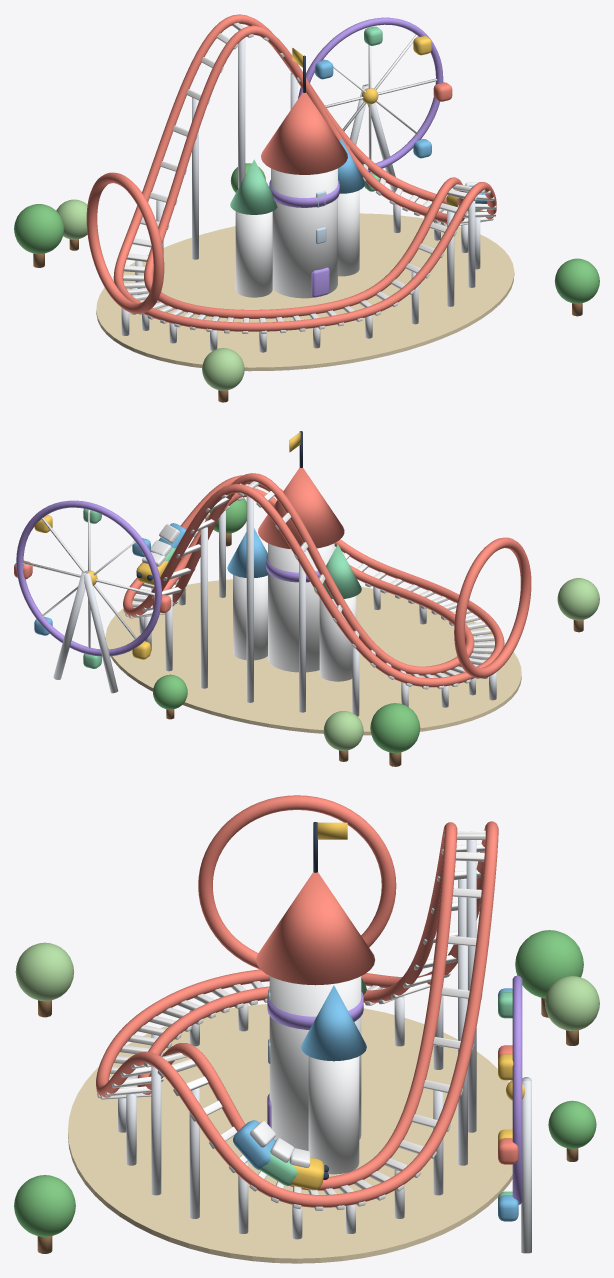
Rendered from gijang.glb.
3 renders of one model, top to bottom at view 1: azimuth 30°, elevation 25°; view 2: azimuth 150°, elevation 25°; view 3: azimuth 270°, elevation 25°, orthographic. The views are drawn at different scales.
Parts seen in each view (by area): view 1: Path, RailR, RailL, Tower, TowerRoof, Loop, Side-0.13, WheelRim, Leaf-0.6, Side0.17, Leaf0.62, SideRoof-0.13 (+9 smaller); view 2: Path, RailR, RailL, Tower, Loop, WheelRim, TowerRoof, Side0.17, Side-0.13, Leaf-0.6, Pole45, Leaf-0.001 (+13 smaller); view 3: Path, RailR, RailL, TowerRoof, Tower, Loop, Side0.17, Leaf-0.6, Leaf0.62, SideRoof0.17, Leaf-0.001, Leaf-0.45 (+14 smaller).
Part boxes in pixels (x1=…): Path: x1=96, y1=213, x2=514, y2=371; RailR: x1=113, y1=14, x2=496, y2=331; RailL: x1=144, y1=25, x2=465, y2=318; Tower: x1=271, y1=168, x2=337, y2=298; TowerRoof: x1=261, y1=92, x2=347, y2=174; Loop: x1=86, y1=172, x2=164, y2=313; Side-0.13: x1=235, y1=211, x2=272, y2=297; WheelRim: x1=298, y1=17, x2=443, y2=172; Leaf-0.6: x1=14, y1=204, x2=64, y2=254; Side0.17: x1=338, y1=190, x2=359, y2=276; Leaf0.62: x1=554, y1=258, x2=599, y2=303; SideRoof-0.13: x1=230, y1=159, x2=277, y2=214; Path: x1=105, y1=579, x2=521, y2=735; RailR: x1=123, y1=475, x2=504, y2=687; RailL: x1=163, y1=473, x2=474, y2=675; Tower: x1=268, y1=543, x2=334, y2=672; Loop: x1=454, y1=537, x2=531, y2=678; WheelRim: x1=16, y1=500, x2=162, y2=656; TowerRoof: x1=258, y1=467, x2=344, y2=549; Side0.17: x1=233, y1=575, x2=267, y2=660; Side-0.13: x1=319, y1=596, x2=356, y2=681; Leaf-0.6: x1=370, y1=703, x2=420, y2=752; Pole45: x1=246, y1=496, x2=253, y2=702; Leaf-0.001: x1=557, y1=578, x2=599, y2=620; Path: x1=68, y1=1004, x2=512, y2=1263; RailR: x1=96, y1=821, x2=498, y2=1207; RailL: x1=137, y1=822, x2=457, y2=1190; TowerRoof: x1=256, y1=872, x2=374, y2=985; Tower: x1=269, y1=976, x2=361, y2=1150; Loop: x1=198, y1=795, x2=396, y2=969; Side0.17: x1=308, y1=1056, x2=359, y2=1174; Leaf-0.6: x1=515, y1=930, x2=583, y2=998; Leaf0.62: x1=14, y1=1175, x2=75, y2=1236; SideRoof0.17: x1=301, y1=985, x2=366, y2=1061; Leaf-0.001: x1=15, y1=942, x2=73, y2=1001; Leaf-0.45: x1=545, y1=976, x2=599, y2=1030.
Bounding box in the file's own units: 1.44 × 0.7665 × 1.28.
